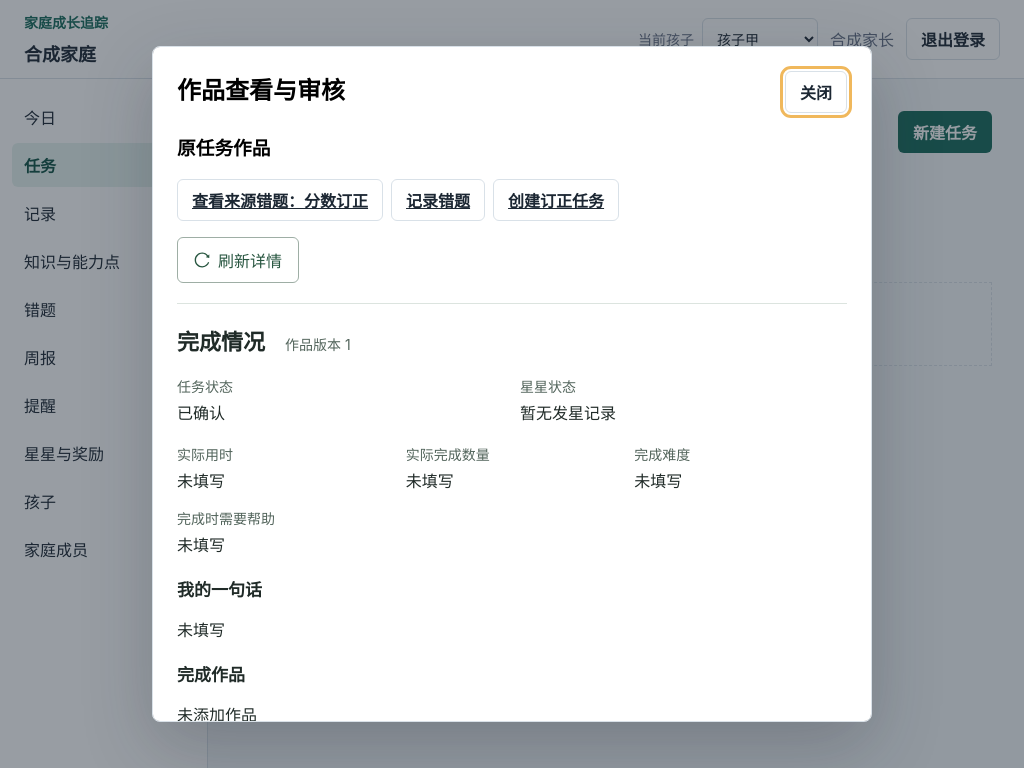
Test case: task detail can return to its source mistake through real App routing
The width and height of the screenshot is (1024, 768).
Click the link "查看来源错题：分数订正" at (280, 200), box [177,179,383,221]
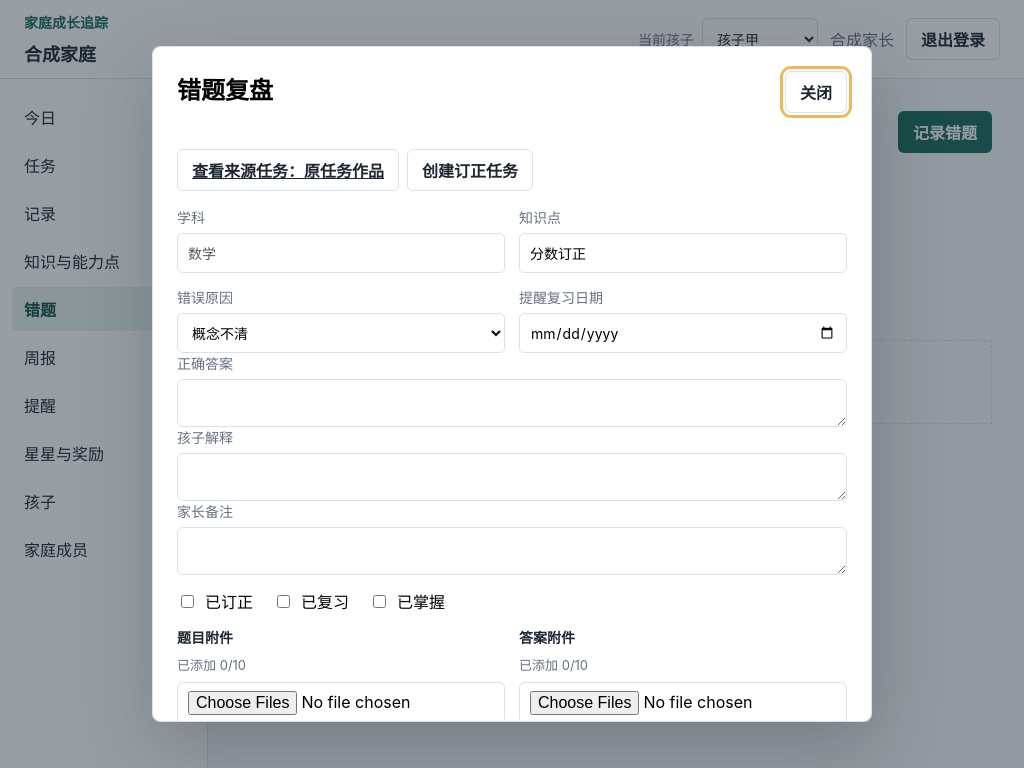
Expected: the field labelled "知识点" holds "分数订正", [519,233,847,273]
